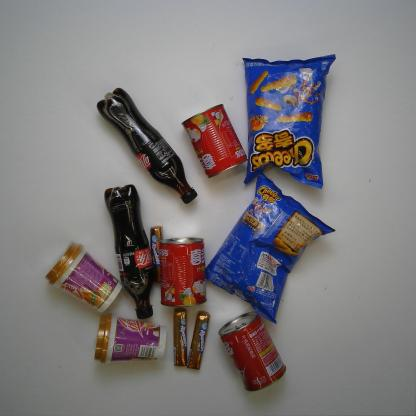Candy: (188, 310, 210, 371), (173, 307, 187, 367), (150, 225, 163, 284)
Canned Food: (218, 310, 286, 392), (181, 104, 249, 180), (159, 237, 207, 307)
Drink: (96, 87, 198, 205), (104, 184, 154, 320)
Instant Drink: (43, 241, 123, 314), (93, 313, 168, 365)
Puffed Food: (205, 173, 336, 325), (242, 53, 336, 190)
